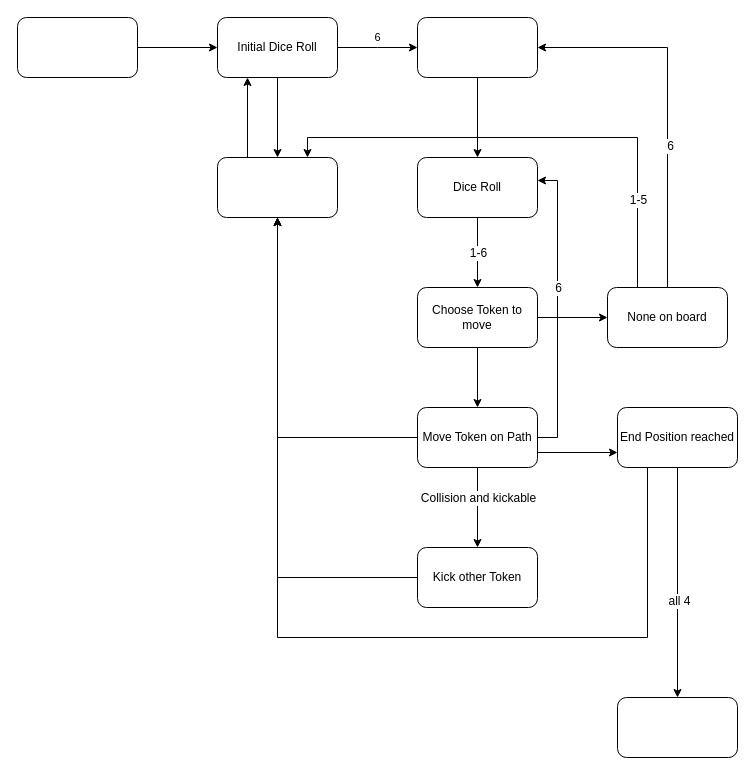
The diagram is 755 pixels wide and 775 high, and some of its shapes have lost their labels. The shapes that lost their labels are listed below. From the top down, each one's centre as x and y in pixels, then its label:
(x=77, y=47): Initial Board
(x=477, y=47): Set Token
(x=277, y=187): Next Player
(x=677, y=727): WIN
